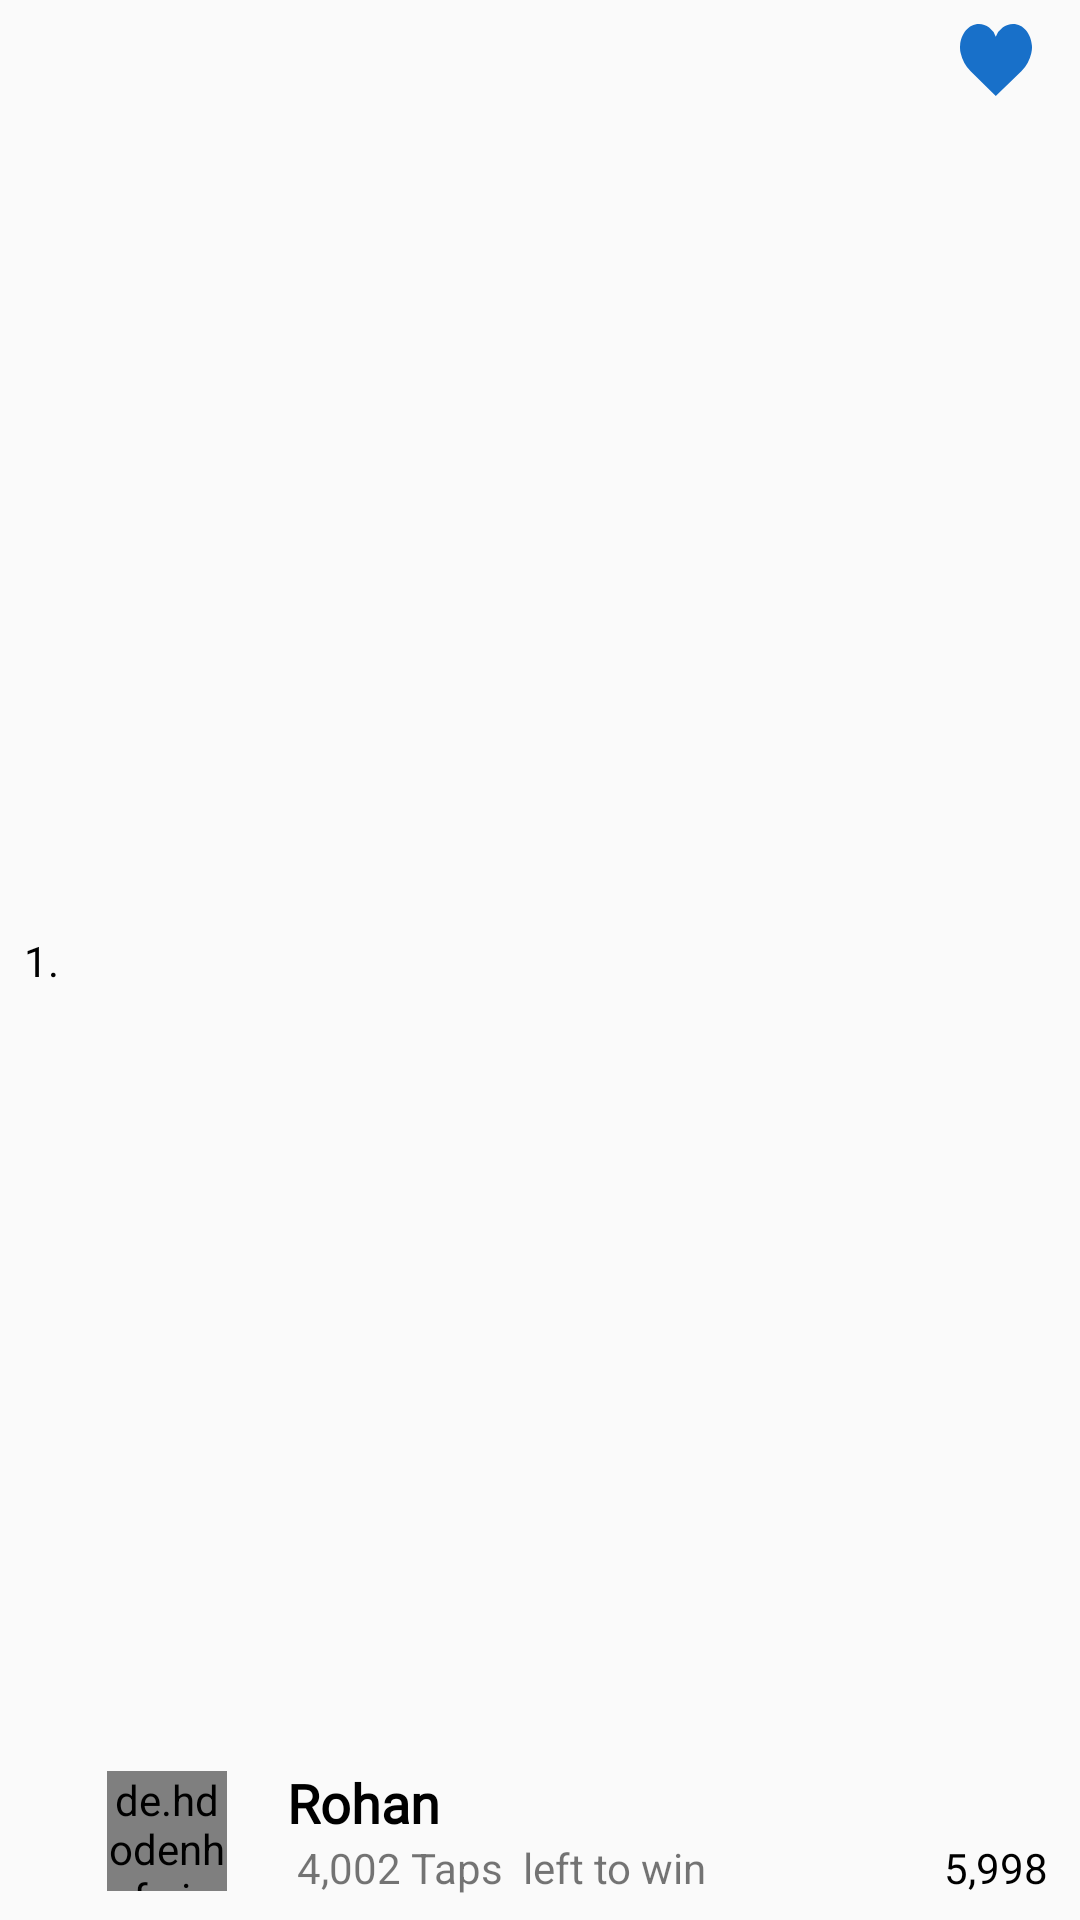

Icons on this 1080px x 1920px Android screen, each with its box as (x1, y1, x2, y2):
blueheart: (960, 24, 1032, 96)
